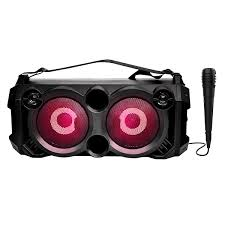microphone: (195, 66, 217, 158)
speaker: (5, 68, 190, 167)
